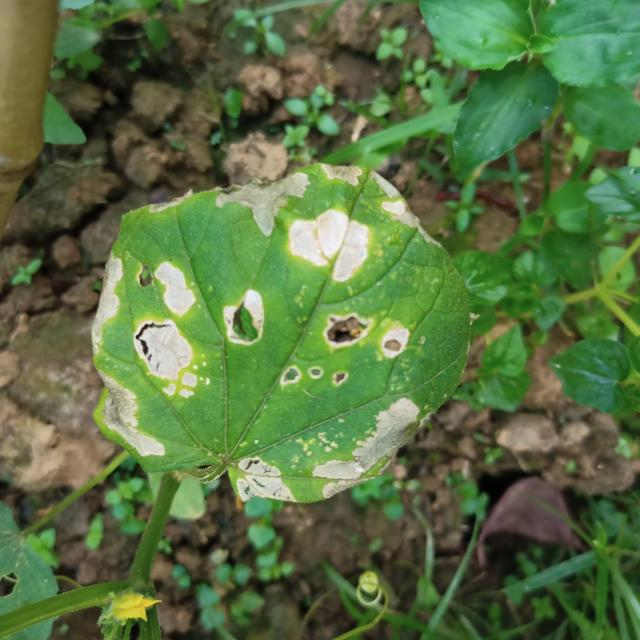disease_cucumber: (213, 286, 437, 497), (94, 237, 278, 467), (219, 152, 450, 286)
